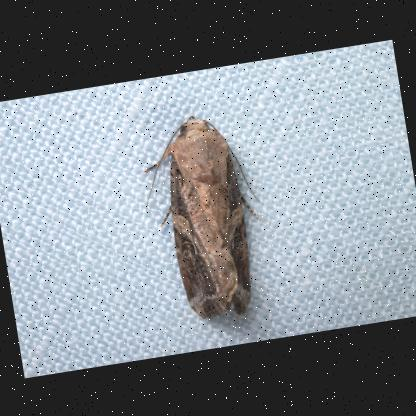Fall Armyworm Moth: (130, 103, 281, 330)
